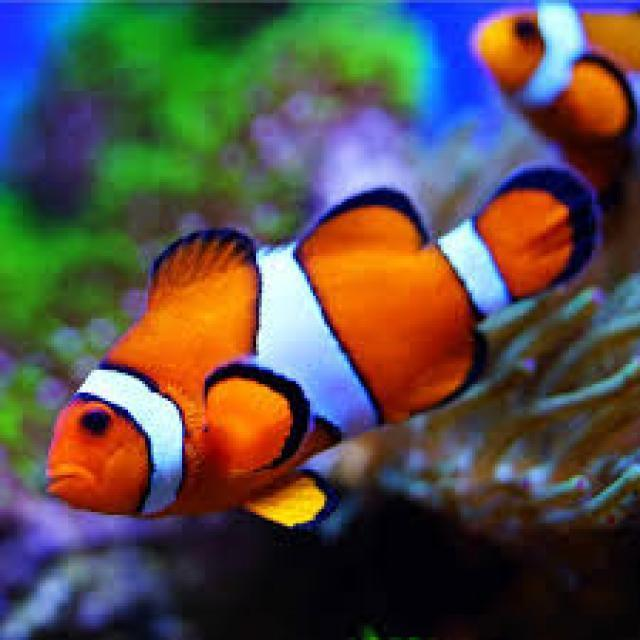ClownFish: (45, 163, 596, 517), (471, 2, 640, 138)
